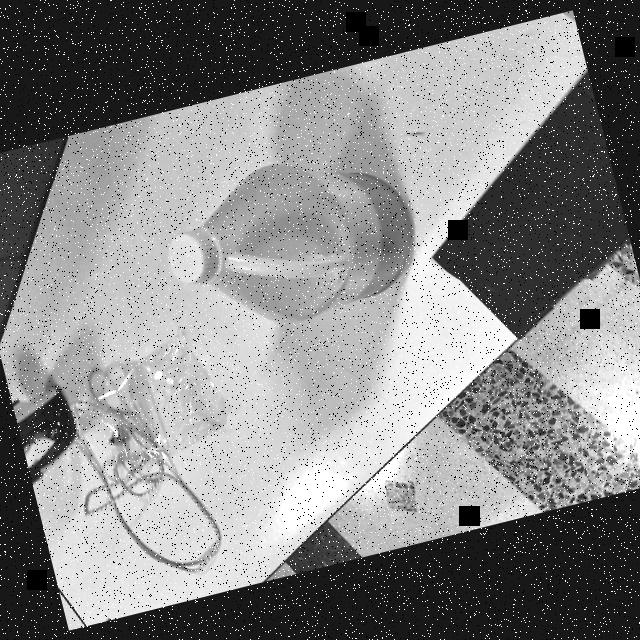chemical_plastic_gallon: (133, 133, 440, 370)
